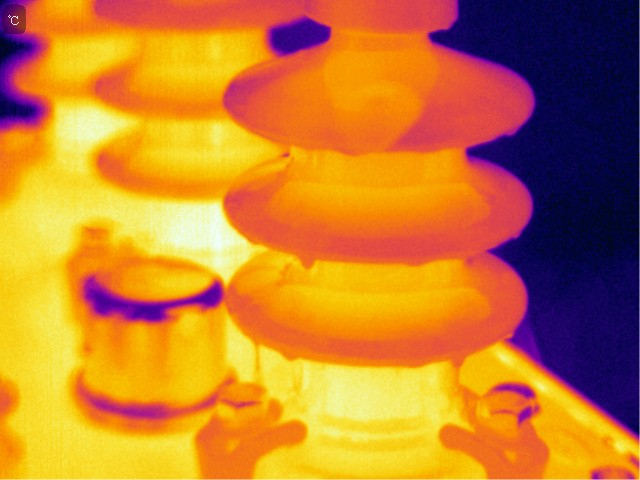Oil: (308, 7, 457, 170), (506, 215, 536, 254), (296, 252, 320, 273), (277, 346, 304, 363), (448, 350, 466, 371)
